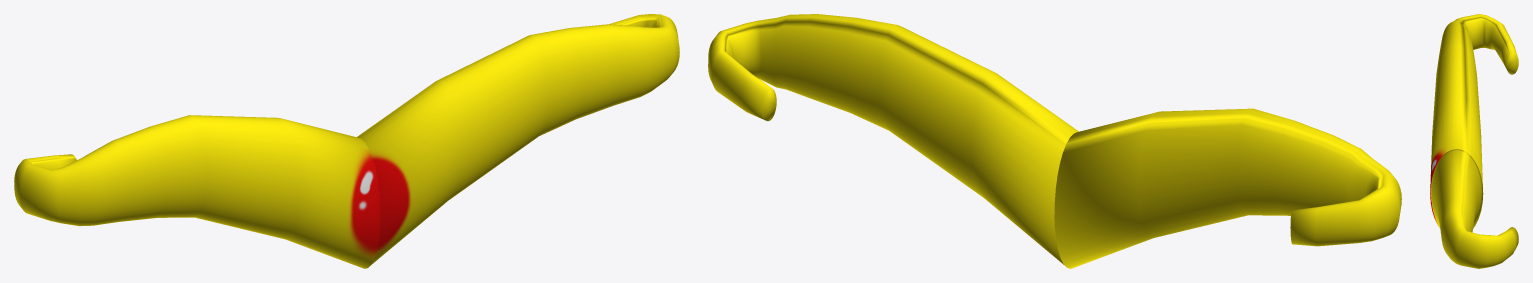
Rendered from tiara.obj.
3 views of the same model, side by side, from view 1: azimuth 30°, elevation 25°; view 2: azimuth 150°, elevation 25°; view 3: azimuth 270°, elevation 25° (orthographic). The views are drawn at different scales.
Visible parts, largest first — view 1: Cylinder.001; view 2: Cylinder.001; view 3: Cylinder.001.
Part boxes in pixels (box(x1,y1,x2,y2)): Cylinder.001: box(14, 14, 679, 268); Cylinder.001: box(708, 14, 1401, 268); Cylinder.001: box(1430, 14, 1518, 268).
Bounding box in the file's own units: 10.74 × 3 × 1.79.
